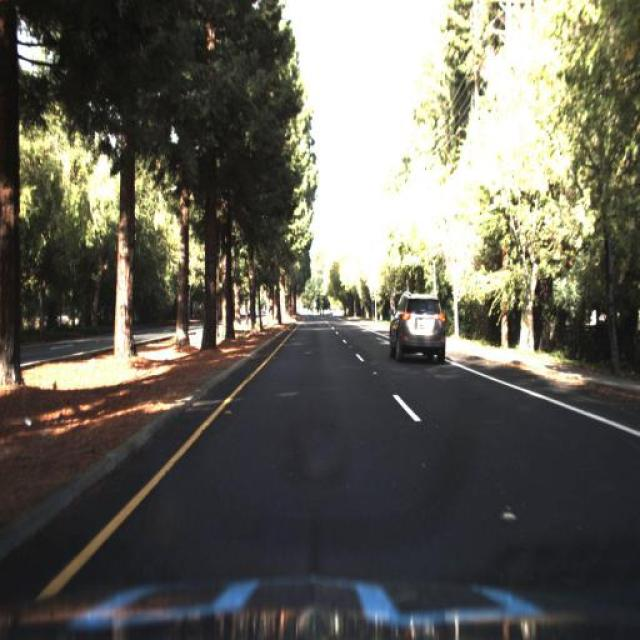car: (388, 292, 447, 363)
